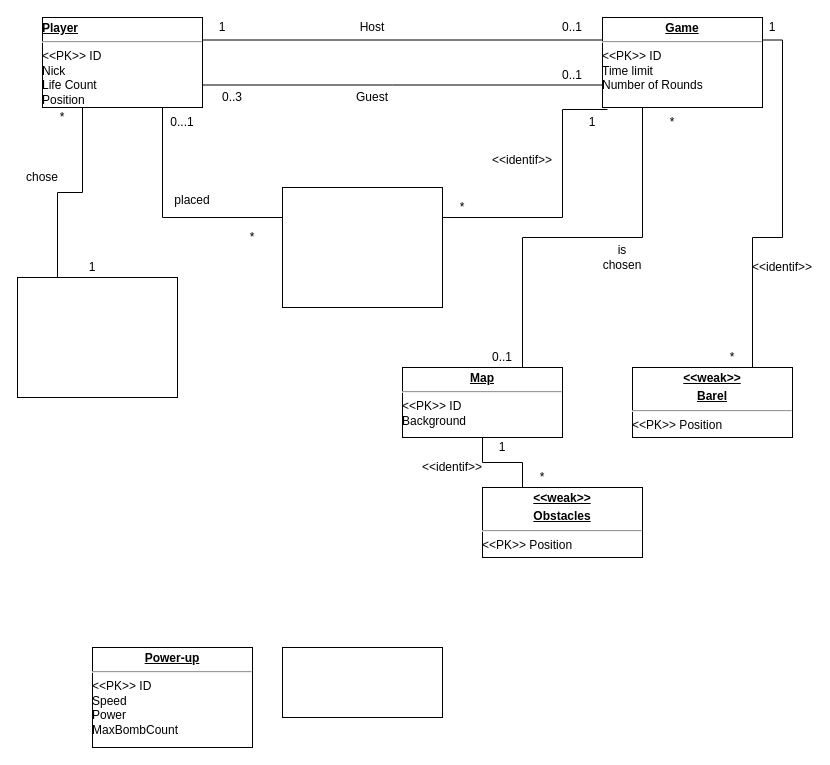
This 830x765 diagram has some shape labels left out. Each missing label, with the centre of its shape:
"<<weak>> Bomb <<PK>> ID Timer Power Position" goes at point 362,247.
"Character <<PK>> ID Speed Power Max Life Max Bomb Count Appearance" goes at point 97,337.
"Game Mode <<PK>> ID Name" goes at point 362,682.
